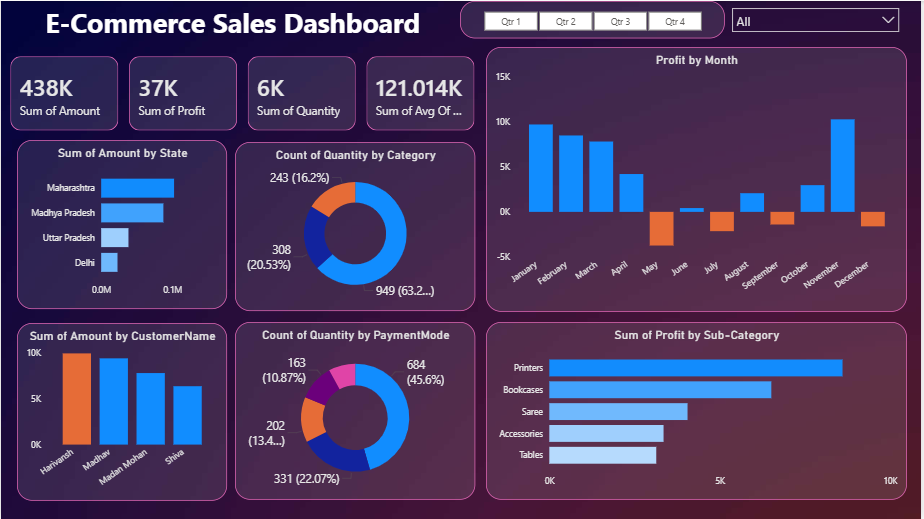

The page's visual inventory and layout, read from the dashboard file:
{"tool":"powerbi","page":{"name":"Page 1","canvas":[1280,720],"ordinal":0},"visuals":[{"type":"textbox","box":[21.8,0,599.7,67.2],"z":0},{"type":"columnChart","title":"Profit by Month","fields":{"Y":["Sum(Details.Profit)"],"Category":["Orders.Order Date.Variation.Date Hierarchy.Month"]},"box":[673.6,63.8,584.6,367.9],"z":1000},{"type":"barChart","fields":{"Category":["Details.Sub-Category"],"Y":["Sum(Details.Profit)"]},"box":[673.6,446.8,584.6,246.9],"z":2000},{"type":"donutChart","fields":{"Category":["Details.Category"],"Y":["CountNonNull(Details.Quantity)"]},"box":[325.9,196.5,334.3,235.2],"z":3000},{"type":"donutChart","fields":{"Y":["CountNonNull(Details.Quantity)"],"Category":["Details.PaymentMode"]},"box":[325.9,446.8,334.3,246.9],"z":4000},{"type":"cardVisual","fields":{"Data":["Sum(Details.Amount)","Sum(Details.Profit)","Sum(Details.Quantity)","Sum(Details.Avg Of The Value)"]},"box":[0,63.8,673.6,129.3],"z":5000},{"type":"barChart","fields":{"Category":["Orders.State"],"Y":["Sum(Details.Amount)"]},"box":[21.8,193.2,292.3,235.2],"z":6000},{"type":"columnChart","fields":{"Category":["Orders.CustomerName"],"Y":["Sum(Details.Amount)"]},"box":[22,447,292,247],"z":7000},{"type":"slicer","fields":{"Values":["Orders.Order Date.Variation.Date Hierarchy.Quarter"]},"box":[638.3,0,367.9,52.1],"z":7001},{"type":"slicer","fields":{"Values":["Orders.State"]},"box":[1006.2,0,252,63.8],"z":7002}]}

Visuals, with their boxes in screenshot pixels (x1, y1, x2, y2), scaled from the page's 1280x720 canvas onto the 924x519 screenshot:
textbox: {"x1": 16, "y1": 0, "x2": 449, "y2": 48}
"Profit by Month" columnChart: {"x1": 486, "y1": 46, "x2": 908, "y2": 311}
barChart - Details.Sub-Category x Sum(Details.Profit): {"x1": 486, "y1": 322, "x2": 908, "y2": 500}
donutChart - Details.Category x CountNonNull(Details.Quantity): {"x1": 235, "y1": 142, "x2": 477, "y2": 311}
donutChart - CountNonNull(Details.Quantity) x Details.PaymentMode: {"x1": 235, "y1": 322, "x2": 477, "y2": 500}
cardVisual - Sum(Details.Amount) x Sum(Details.Profit): {"x1": 0, "y1": 46, "x2": 486, "y2": 139}
barChart - Orders.State x Sum(Details.Amount): {"x1": 16, "y1": 139, "x2": 227, "y2": 309}
columnChart - Orders.CustomerName x Sum(Details.Amount): {"x1": 16, "y1": 322, "x2": 227, "y2": 500}
slicer - Orders.Order Date.Variation.Date Hierarchy.Quarter: {"x1": 461, "y1": 0, "x2": 726, "y2": 38}
slicer - Orders.State: {"x1": 726, "y1": 0, "x2": 908, "y2": 46}
